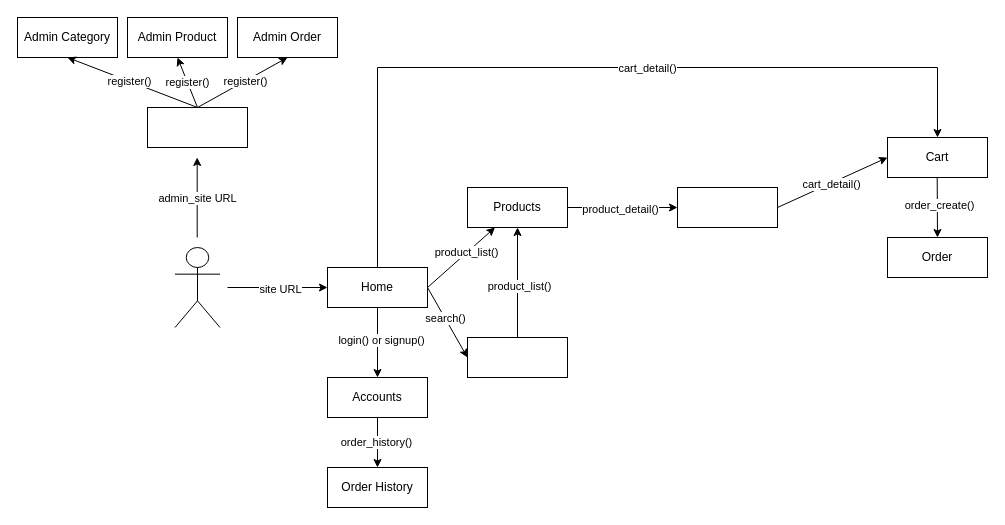
Some shapes in this 1005 by 525 pixel diagram are drawn without their labels. The shapes that lost their labels are listed below. From the top down, each one's centre as x and y in pixels, then its label:
At point (197, 127): "Admin Login".
At point (727, 207): "Individual Product Details".
At point (197, 287): "User".
At point (517, 357): "Search".
